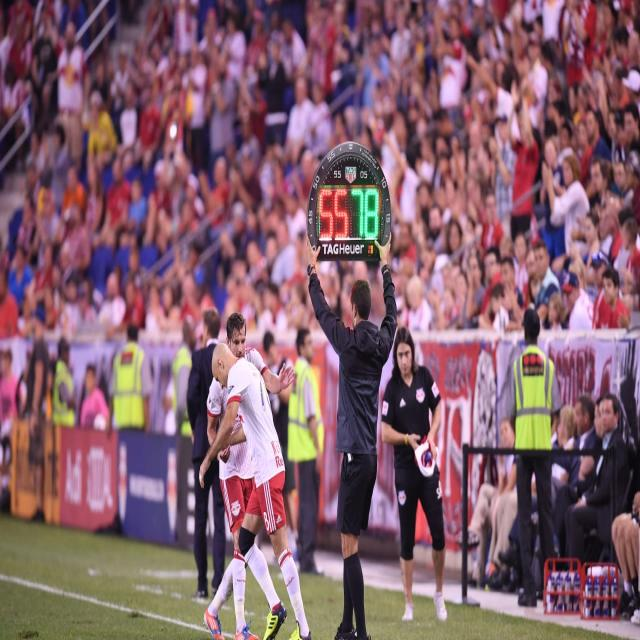substitution: (306, 134, 394, 276)
